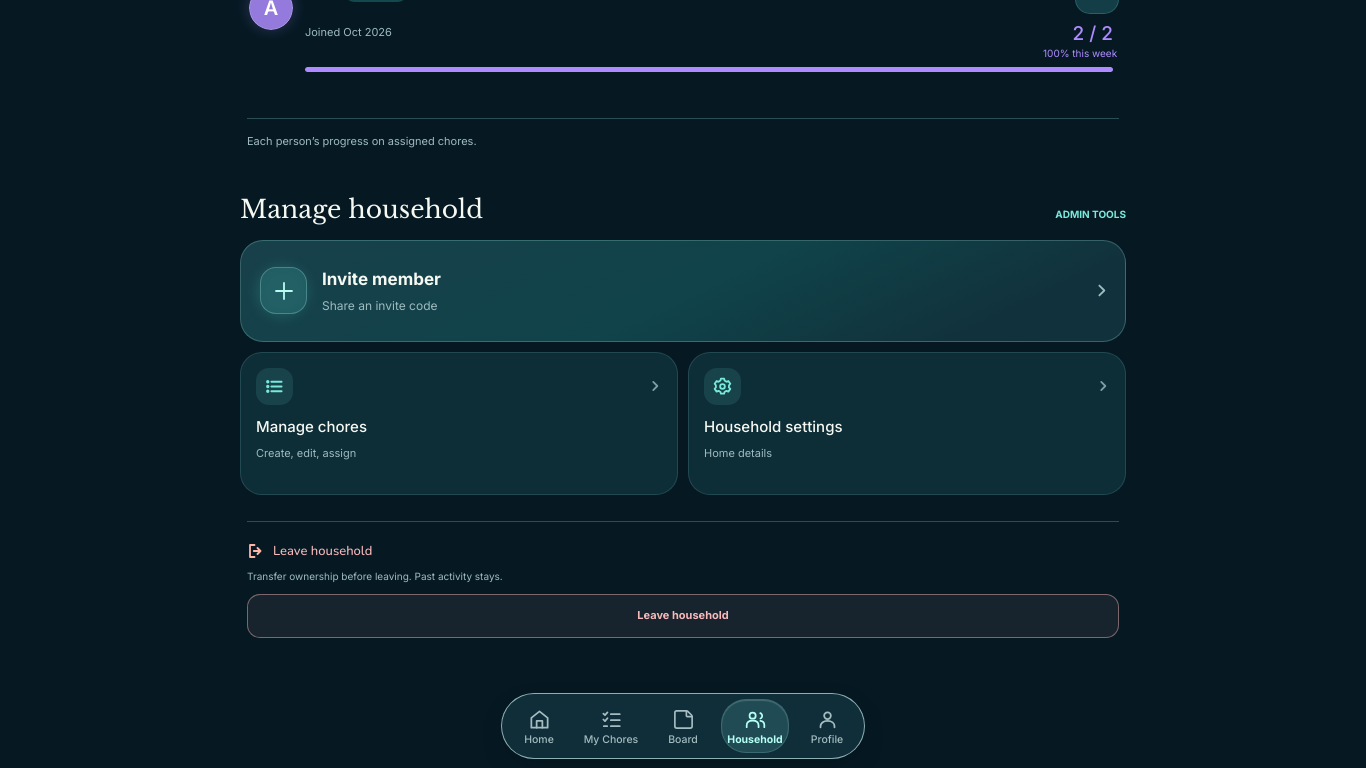
it: HouseholdScreen owner leave confirmation › only final confirmation submits once with the selected successor
The width and height of the screenshot is (1366, 768).
(page scrolled)
Click the button "Leave household". click: (683,616)
box: [247,594,1119,638]
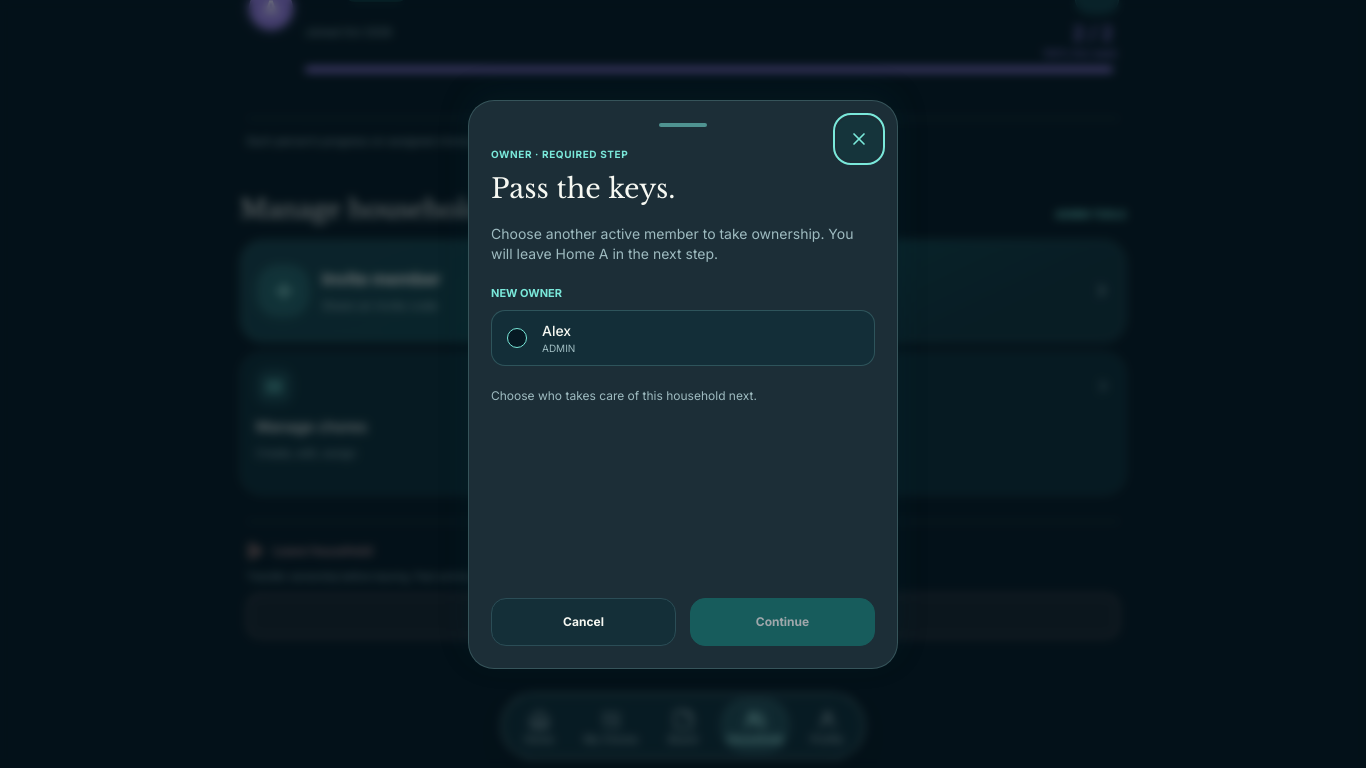
Click the radio button labelled "Alex Admin". click: (517,338)
box: [507,328,527,348]
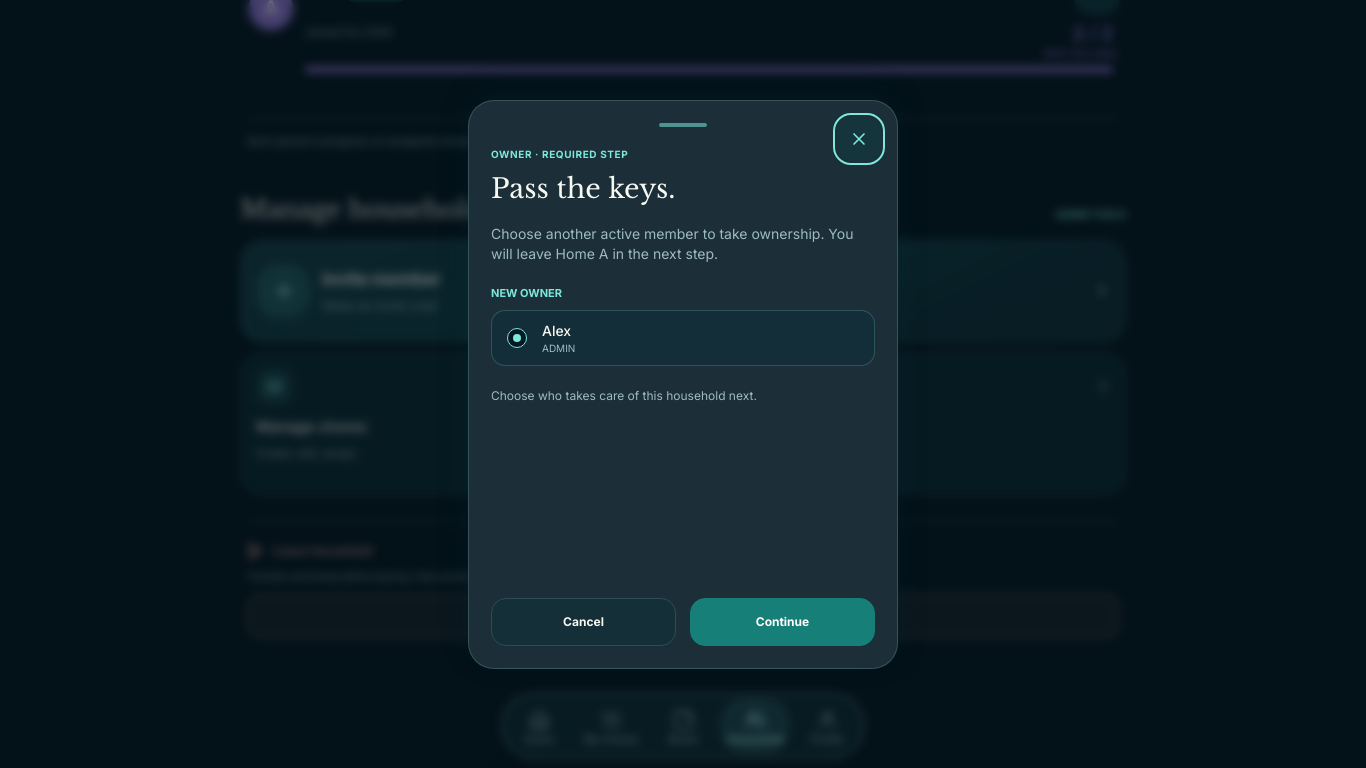
Click the button "Continue". click: (782,622)
box: [690,598,875,646]
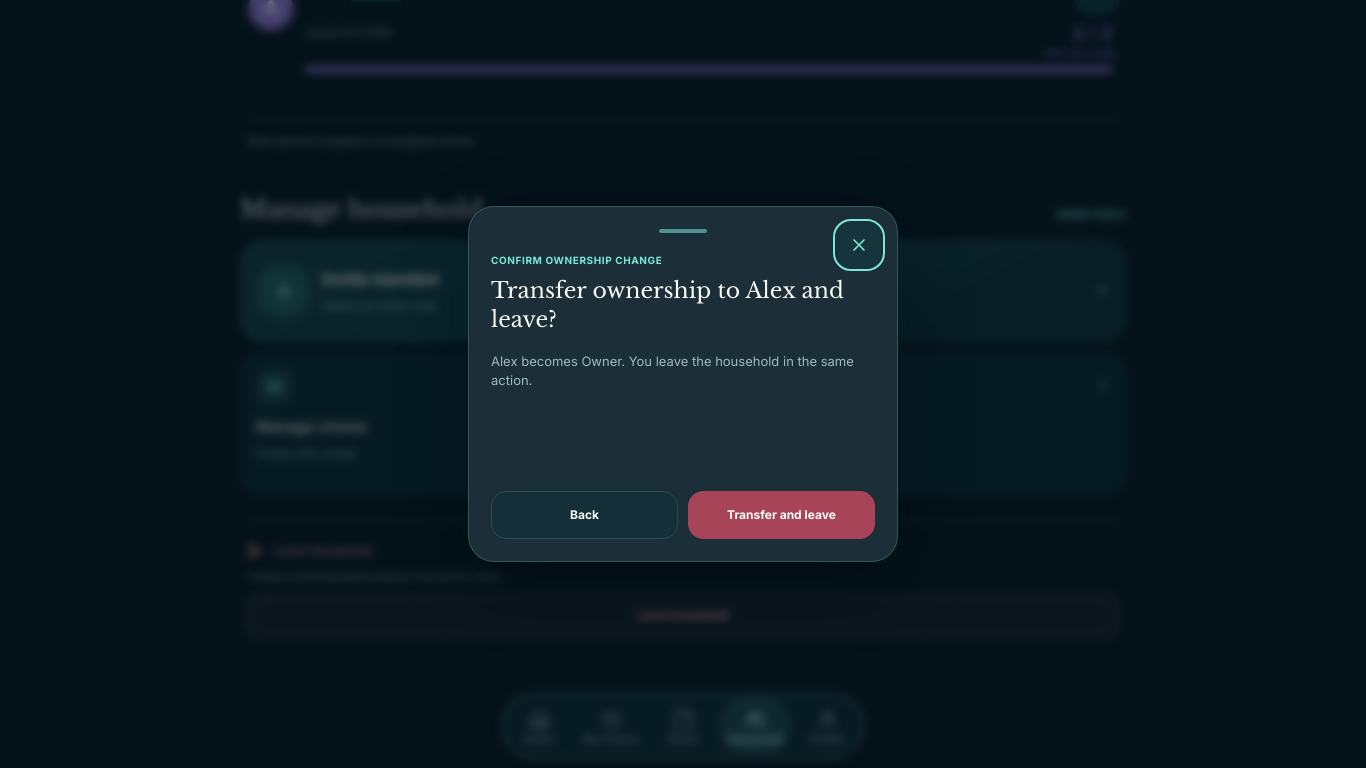
Click the button "Transfer and leave". click: (782,515)
box: [688,491,875,539]
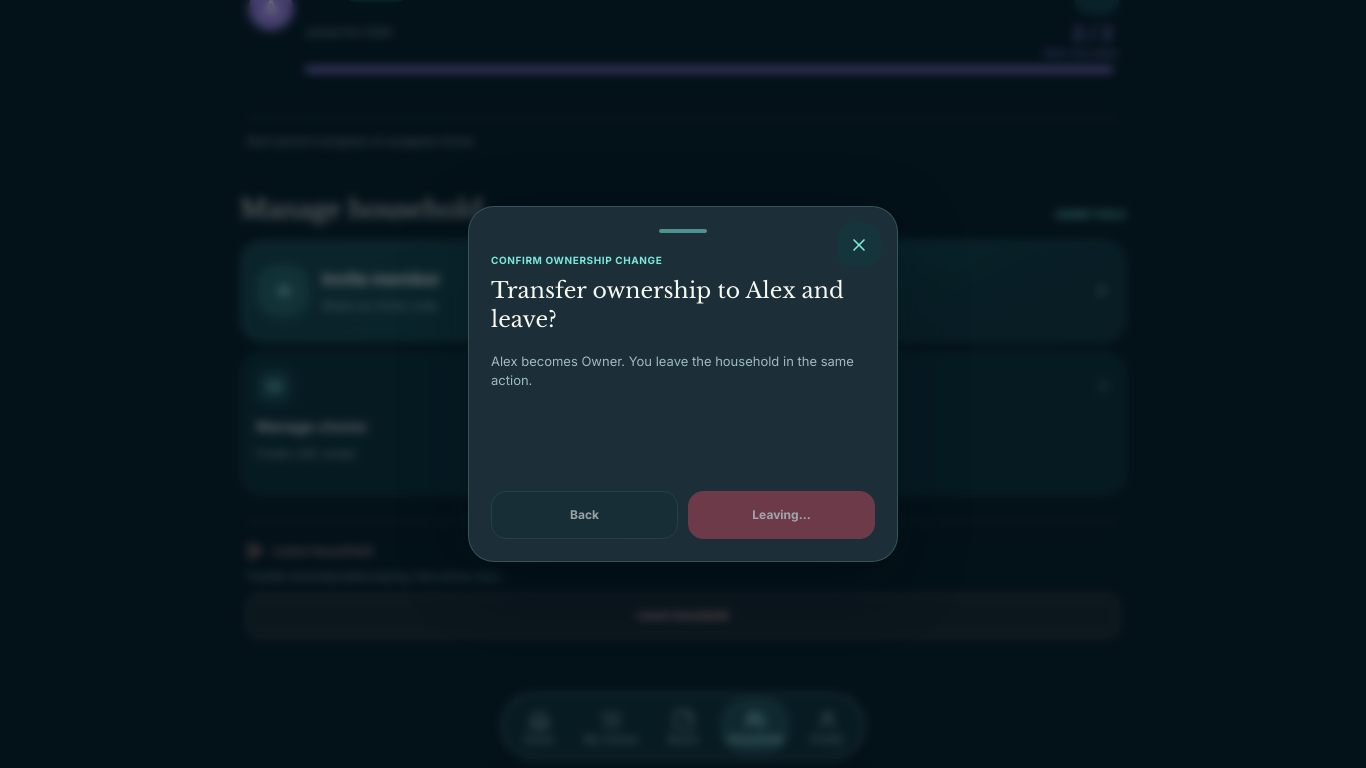
Click the button named "Transfer and leave". click: (782,515)
box: [688,491,875,539]
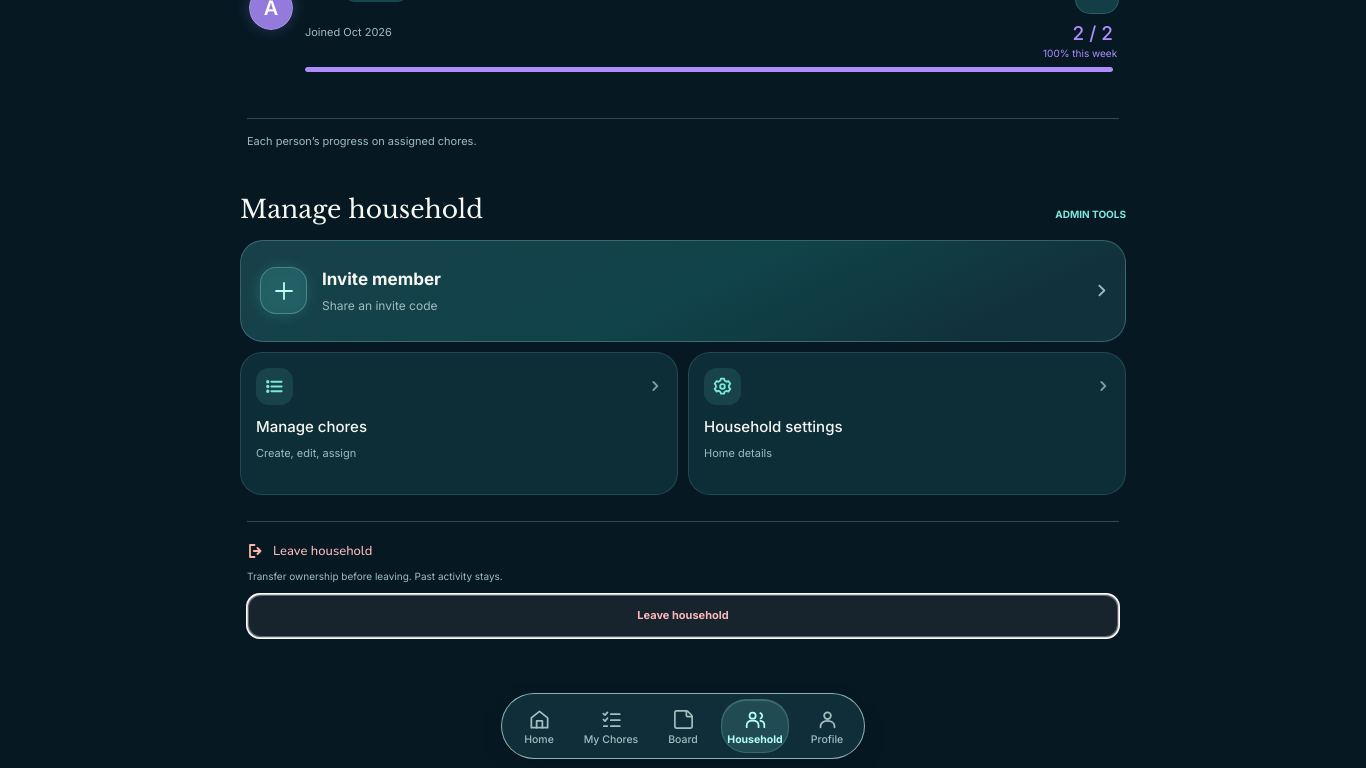
Result: the dialog is gone
